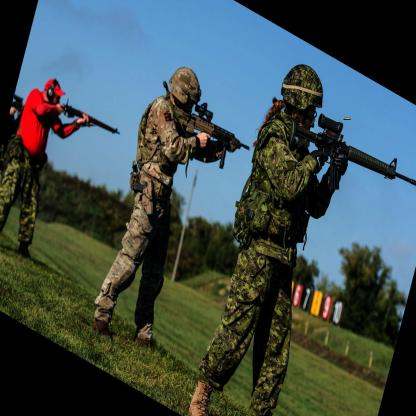rifle: (284, 96, 416, 232), (175, 96, 253, 176)
